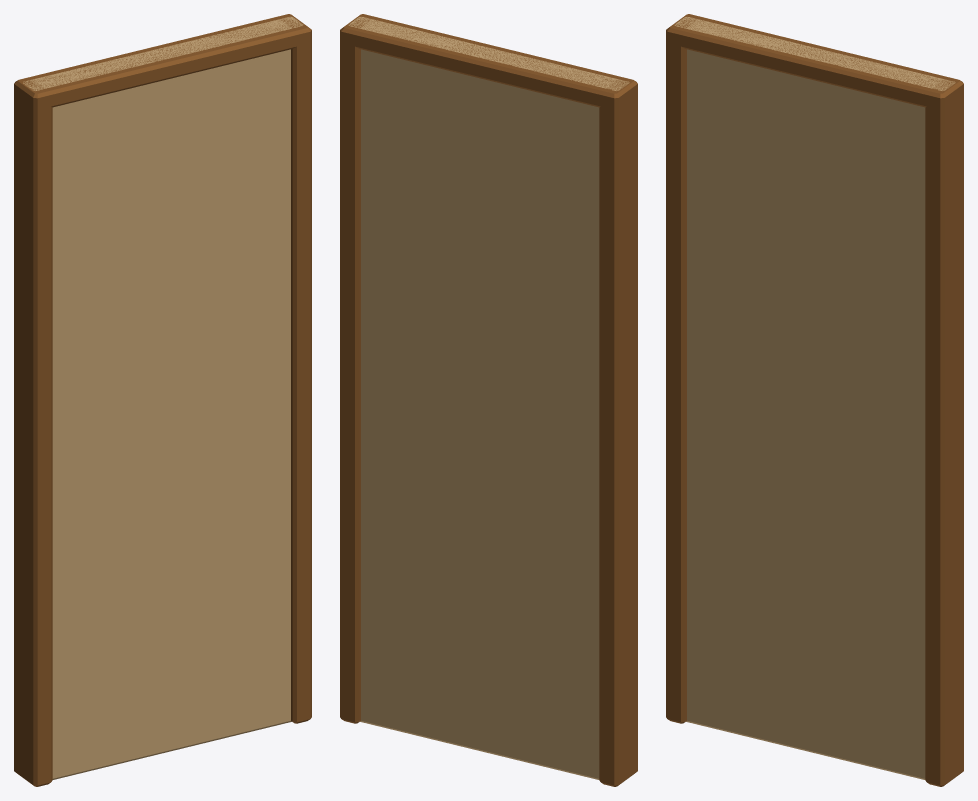
File: wall_1m.glb
The picture shows the model from 3 angles, left to right: view 1: azimuth 30°, elevation 25°; view 2: azimuth 150°, elevation 25°; view 3: azimuth 330°, elevation 25°; orthographic projection.
Parts seen in each view (by area): view 1: wall_1m; view 2: wall_1m; view 3: wall_1m.
Part boxes in pixels (left/top/right/bottom): wall_1m: left=14, top=14, right=311, bottom=786; wall_1m: left=340, top=14, right=637, bottom=786; wall_1m: left=666, top=14, right=963, bottom=786.
Bounding box in the file's own units: 1.01 × 2.4 × 0.14.
